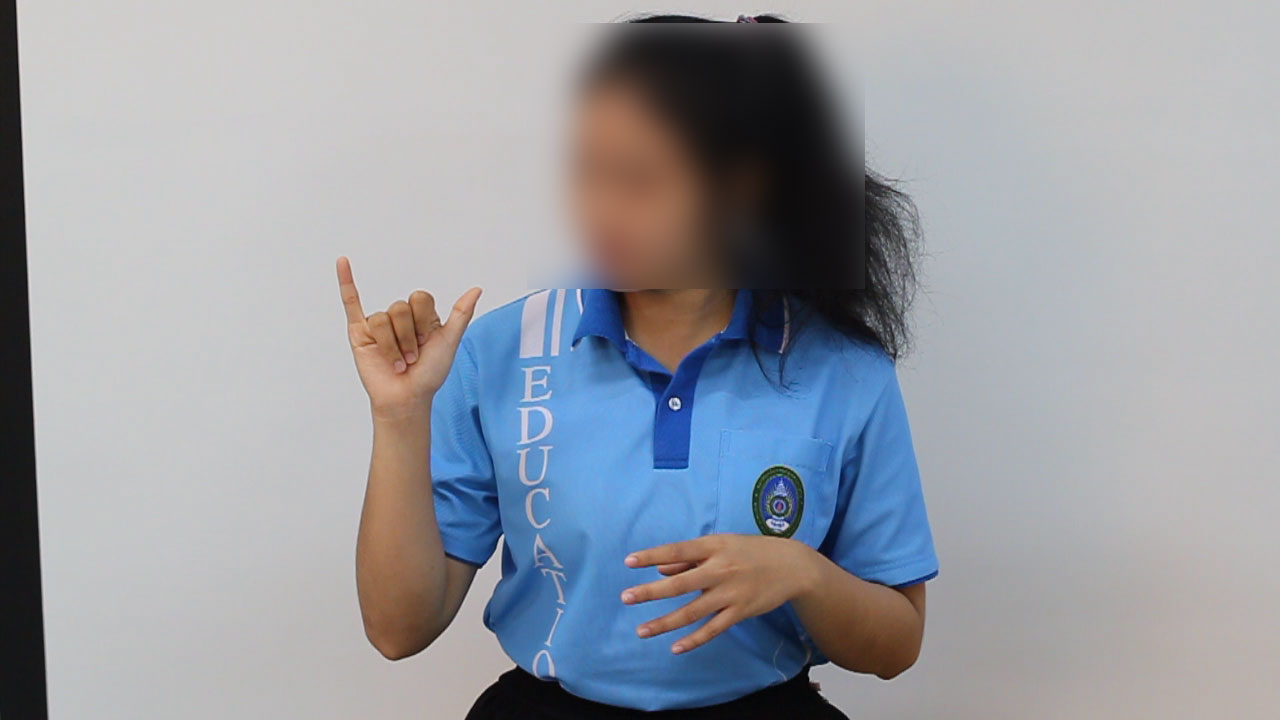yor: (326, 250, 486, 417)
